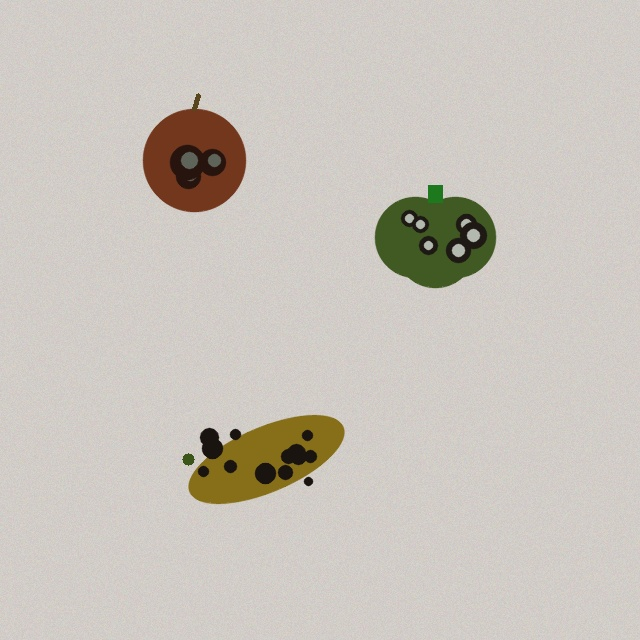Rotten apple: (143, 95, 245, 211)
Rotten banana: (179, 419, 353, 499)
Rotten bell pepper: (375, 185, 495, 287)
